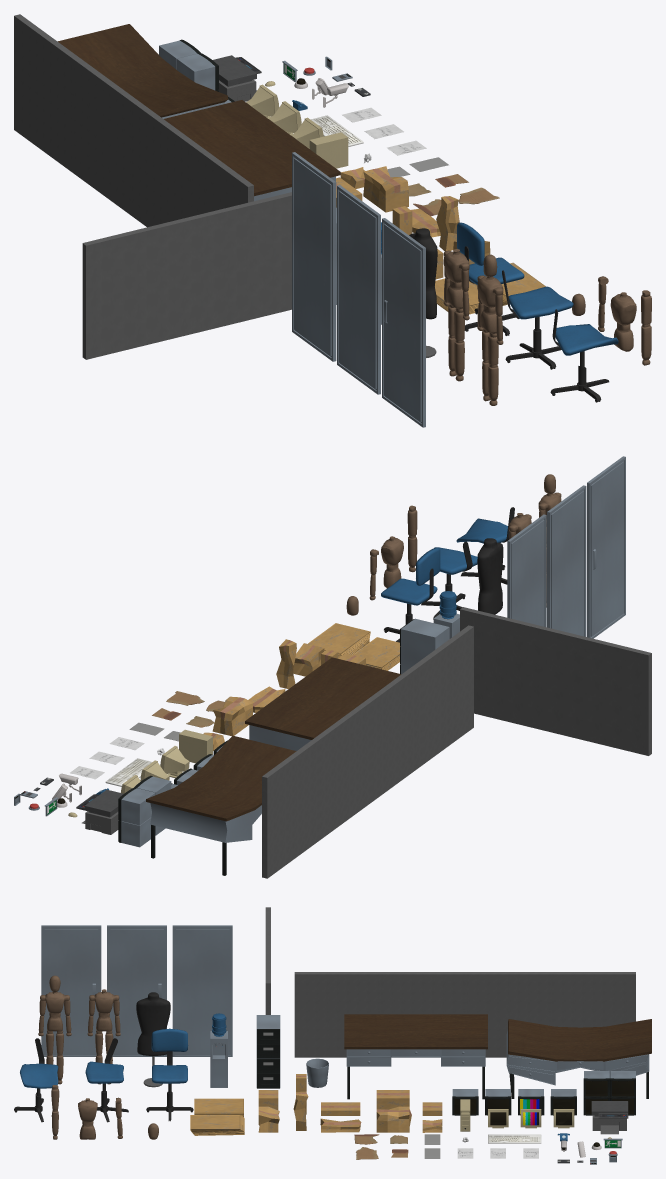
File: Backrooms_Vol2_1k.glb
3 views of the same model, one above another, from view 1: azimuth 30°, elevation 25°; view 2: azimuth 150°, elevation 25°; view 3: azimuth 270°, elevation 25° (orthographic). The views are drawn at different scales.
Visible parts, largest first — view 1: Vertical_Office_Partition, Horizontal_Office_Partition, Door_Without_Handle, Door, Door_Single_Handle, Office_Table, Broken_Office_Table, Standing_Mannequin, Headless_Standing_Mannequin, Broken_Office_Chair_1, Broken_Office_Chair_2, Office_Chair (+12 smaller); view 2: Horizontal_Office_Partition, Vertical_Office_Partition, Broken_Office_Table, Office_Table, Door, Door_Single_Handle, Door_Without_Handle, Quadro_CCTV_Monitor, Office_Chair, Half_Mannequin, Filing_Cabinet, Printer (+13 smaller); view 3: Horizontal_Office_Partition, Broken_Office_Table, Office_Table, Door_Without_Handle, Door, Door_Single_Handle, Office_Chair, Standing_Mannequin, Quadro_CCTV_Monitor, Half_Mannequin, Headless_Standing_Mannequin, Broken_Office_Chair_2 (+24 smaller).
Boxes of the visible parts, x1,y1,x2,y2 form: Vertical_Office_Partition: (82, 192, 291, 359); Horizontal_Office_Partition: (14, 14, 253, 227); Door_Without_Handle: (292, 152, 336, 361); Door: (382, 218, 425, 427); Door_Single_Handle: (337, 185, 380, 394); Office_Table: (164, 100, 340, 201); Broken_Office_Table: (58, 24, 228, 118); Standing_Mannequin: (477, 254, 503, 405); Headless_Standing_Mannequin: (443, 249, 469, 381); Broken_Office_Chair_1: (502, 270, 573, 369); Broken_Office_Chair_2: (550, 309, 618, 402); Office_Chair: (457, 222, 524, 335); Horizontal_Office_Partition: (262, 625, 473, 878); Vertical_Office_Partition: (460, 607, 651, 755); Broken_Office_Table: (146, 735, 296, 875); Office_Table: (245, 657, 400, 750); Door: (587, 456, 625, 638); Door_Single_Handle: (547, 485, 586, 636); Door_Without_Handle: (507, 514, 546, 627); Quadro_CCTV_Monitor: (118, 775, 171, 847); Office_Chair: (381, 547, 440, 642); Half_Mannequin: (477, 538, 503, 614); Filing_Cabinet: (401, 618, 449, 674); Printer: (76, 789, 123, 834); Horizontal_Office_Partition: (294, 972, 635, 1057); Broken_Office_Table: (506, 1019, 651, 1098); Office_Table: (344, 1014, 487, 1099); Door_Without_Handle: (172, 925, 232, 1056); Door: (41, 925, 101, 1056); Door_Single_Handle: (107, 925, 166, 1056); Office_Chair: (146, 1028, 193, 1121); Standing_Mannequin: (38, 975, 71, 1084); Quadro_CCTV_Monitor: (583, 1071, 635, 1115); Half_Mannequin: (136, 992, 170, 1087); Headless_Standing_Mannequin: (87, 989, 120, 1084); Broken_Office_Chair_2: (14, 1038, 58, 1122).
Bounding box in the file's own units: 6.27 × 2.26 × 9.72.
2 materials, 2 textured.
